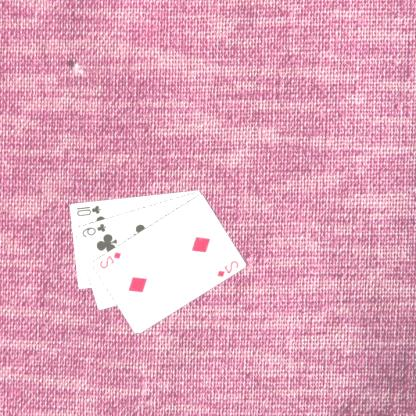10C: (75, 202, 103, 217)
2D: (98, 249, 124, 270), (216, 258, 242, 278)
6C: (80, 221, 108, 238)
